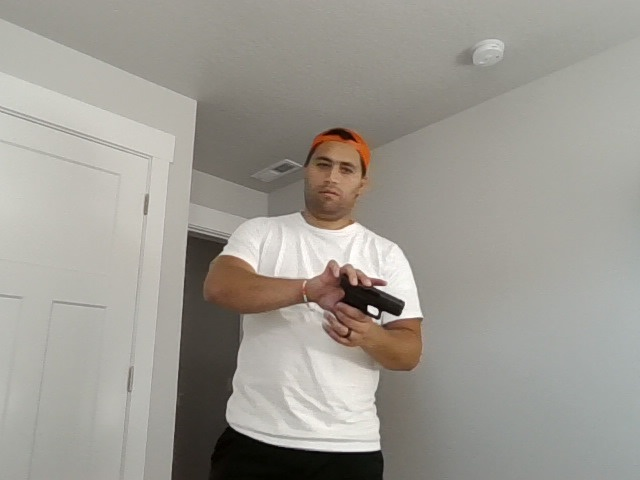handgun: (339, 272, 406, 324)
